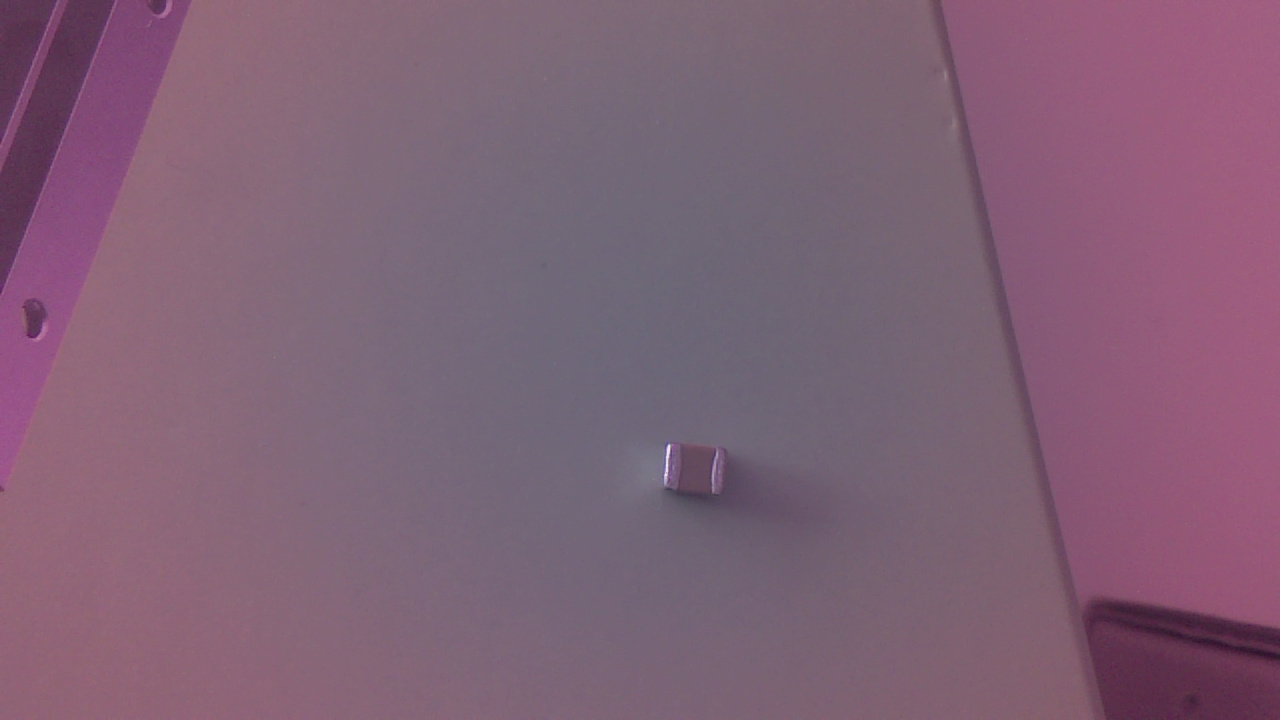Condensator: (660, 438, 742, 507)
